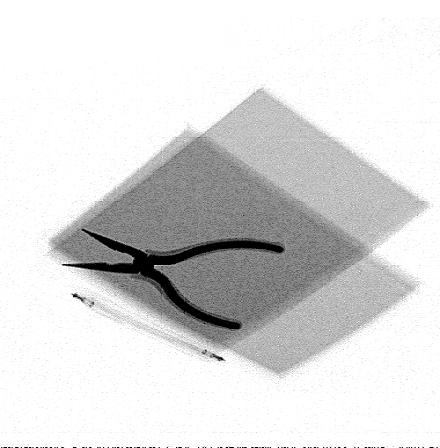Pliers: (59, 228, 288, 331)
